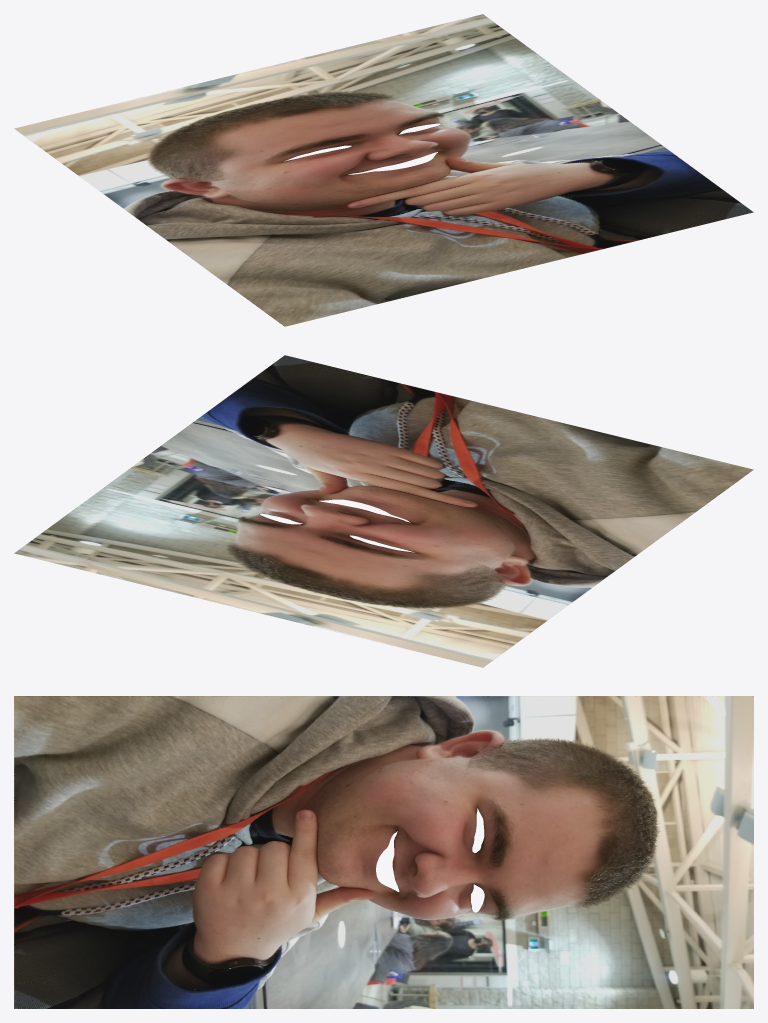
The model's file is 32x32plane_sided.dae.
3 renders of one model, top to bottom at view 1: azimuth 30°, elevation 25°; view 2: azimuth 150°, elevation 25°; view 3: azimuth 270°, elevation 25°, orthographic. The views are drawn at different scales.
Parts seen in each view (by area): view 1: Taylor_Plane.001, Taylor_Plane; view 2: Taylor_Plane.001, Taylor_Plane; view 3: Taylor_Plane.001, Taylor_Plane.
Part boxes in pixels (bbox=[...]): Taylor_Plane.001: bbox=[14, 14, 753, 326]; Taylor_Plane: bbox=[31, 15, 751, 325]; Taylor_Plane.001: bbox=[14, 355, 753, 667]; Taylor_Plane: bbox=[18, 356, 753, 636]; Taylor_Plane.001: bbox=[14, 696, 753, 1008]; Taylor_Plane: bbox=[14, 696, 751, 1008].
Size of the model in its own units: 64 by 64 by 0.
